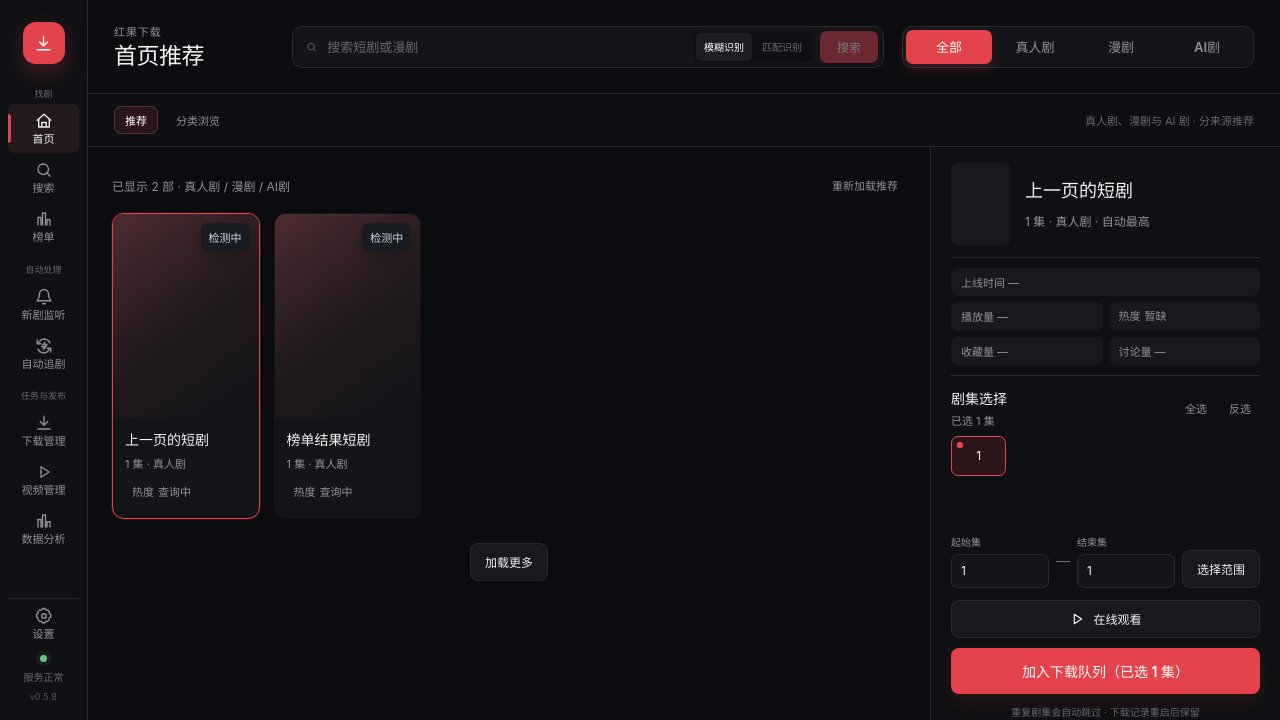
Test: App request ordering › clears the previous list and selection when a different feed returns no results
Check: the button "加入下载队列（已选 1 集）" is enabled, box left=951, top=648, right=1260, bottom=694
Click the button "榜单". click: coordinates (44, 226)
box: left=8, top=202, right=79, bottom=251
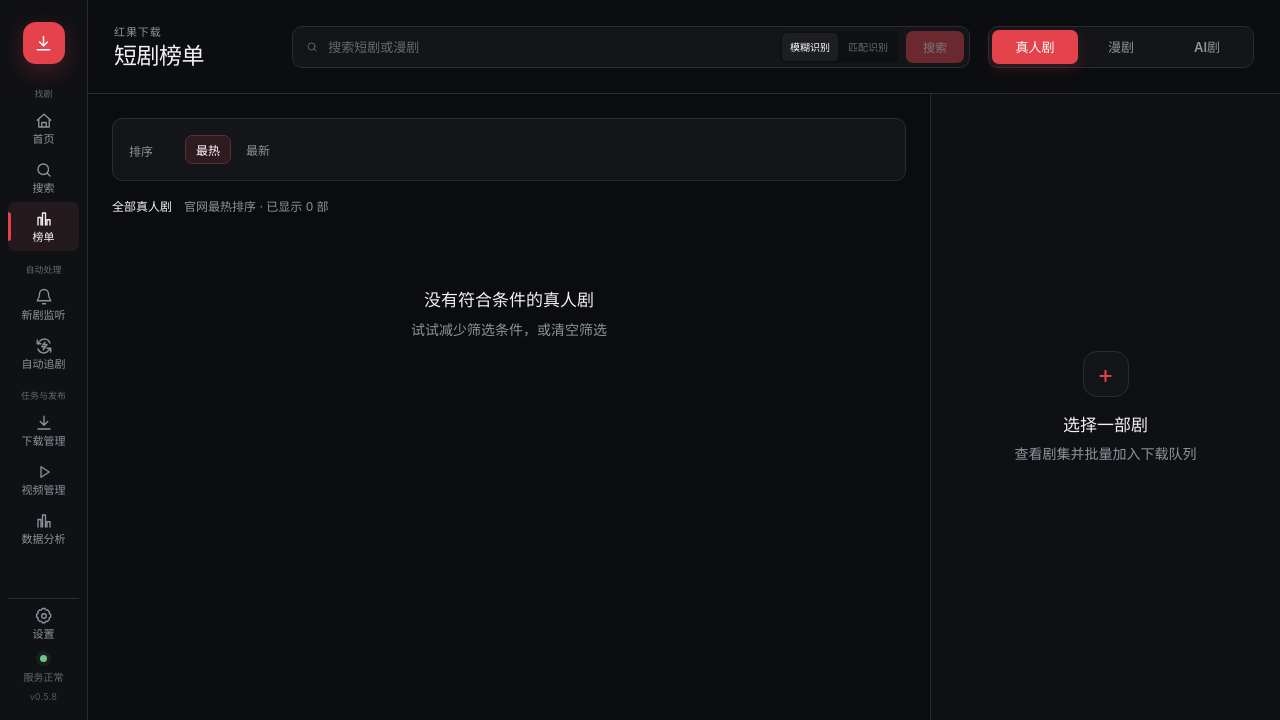
Check: the heading "没有符合条件的真人剧" is shown, box left=424, top=286, right=594, bottom=310
Check: the button "上一页的短剧" is gone
